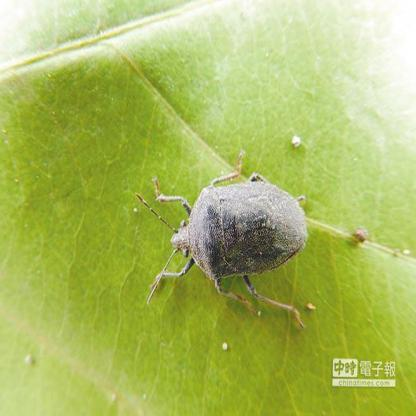rice-bug: (144, 157, 320, 320)
